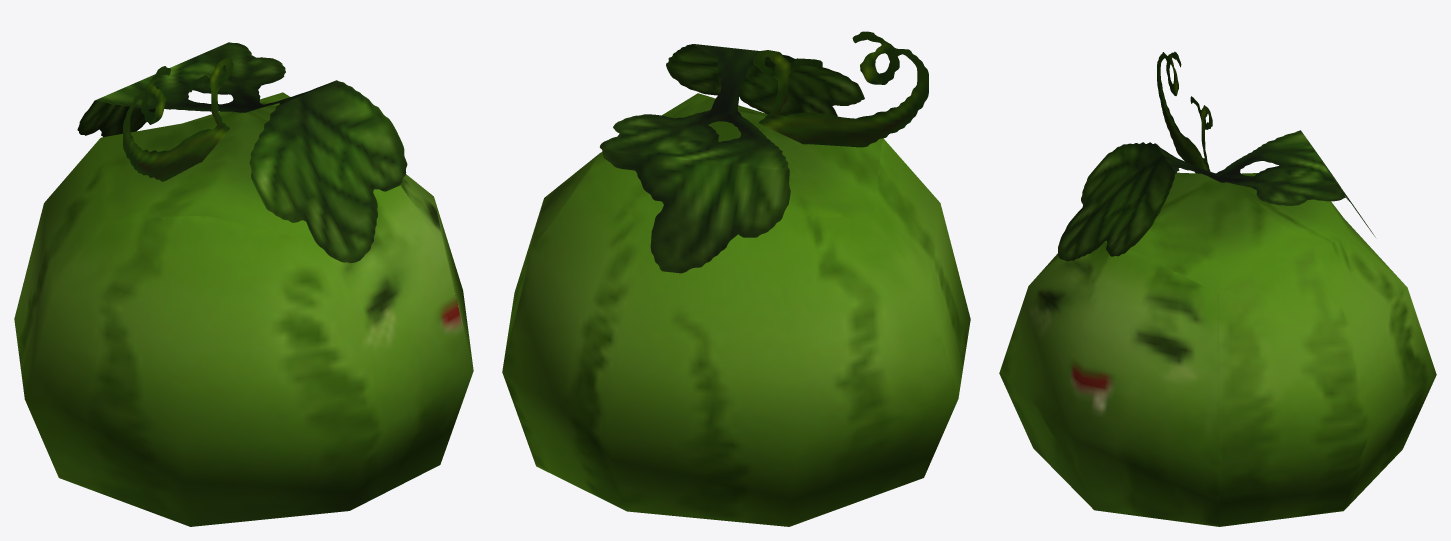
File: xigua.DAE
3 views of the same model, side by side, from view 1: azimuth 30°, elevation 25°; view 2: azimuth 150°, elevation 25°; view 3: azimuth 270°, elevation 25° (orthographic). The views are drawn at different scales.
Parts seen in each view (by area): view 1: xigua; view 2: xigua; view 3: xigua.
Part boxes in pixels (x1,y1,x2,y2): xigua: (14,42,473,526); xigua: (502,31,970,526); xigua: (999,51,1436,526).
Size of the model in its own units: 65.23 by 65.23 by 64.36.
